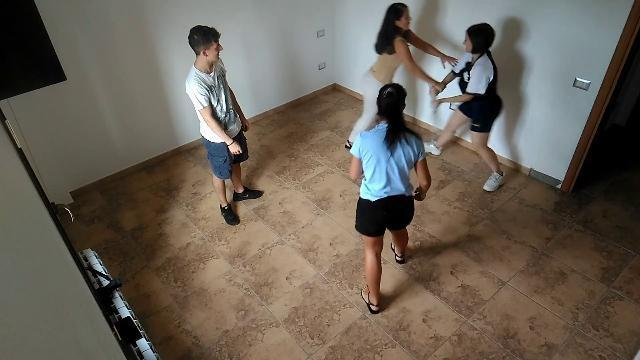non-violence: (346, 82, 434, 316), (182, 23, 266, 228)
violence: (342, 2, 504, 192)
